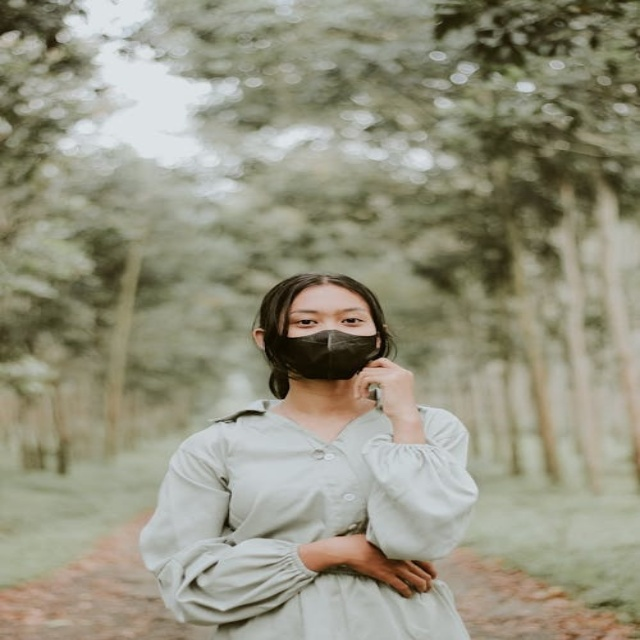Mascara: (270, 330, 380, 380)
Sin_gafas: (288, 308, 370, 329)
Sin_guantes: (340, 527, 439, 596), (355, 354, 422, 416)
